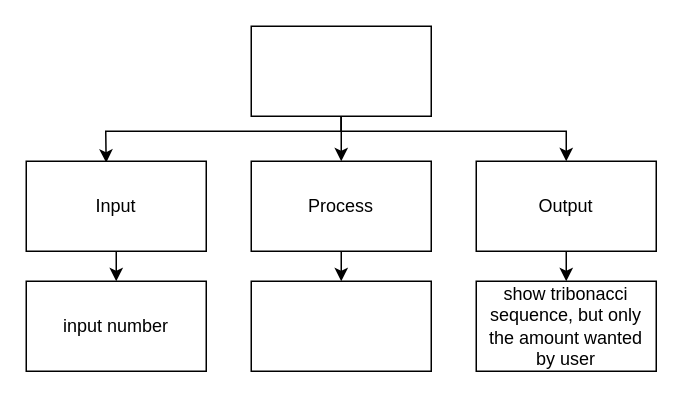
The diagram is 683 pixels wide and 398 high, and some of its shapes have lost their labels. Each missing label, with the centre of its shape:
"calculate tribonacci" belongs at (340,325).
"TribonacciRecursive Program" belongs at (340,70).
